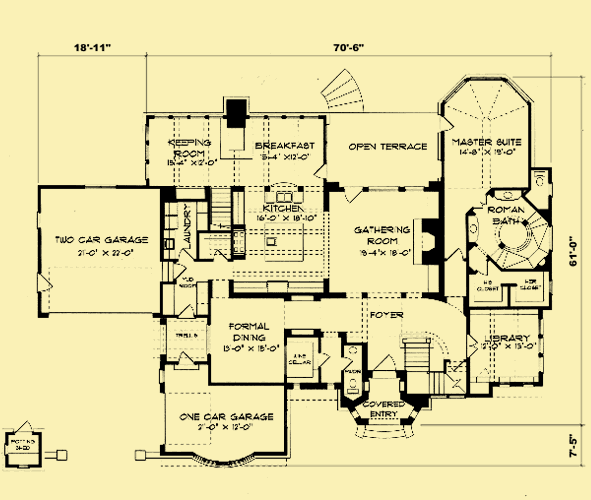door: (371, 352, 397, 371), (437, 111, 456, 132), (34, 273, 55, 292), (342, 186, 363, 204), (175, 303, 195, 321), (175, 349, 196, 366), (173, 260, 189, 282), (311, 160, 327, 181), (175, 248, 195, 263), (211, 250, 231, 264), (317, 349, 331, 369), (339, 355, 353, 371)
large_sink: (346, 376, 361, 397), (531, 169, 547, 188)
small_sink: (494, 187, 520, 202), (467, 217, 480, 242)
stairs: (401, 335, 468, 394), (319, 67, 366, 114), (205, 184, 234, 232)
twin_sink: (273, 189, 295, 204)
windows: (142, 121, 154, 184), (536, 314, 547, 376), (363, 184, 426, 193), (80, 182, 120, 192), (430, 390, 464, 401), (157, 364, 167, 385)
